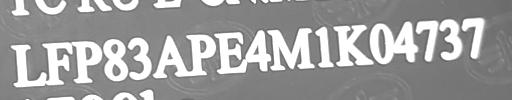letter: (266, 25, 316, 71), (332, 22, 374, 66), (8, 43, 48, 88), (151, 33, 189, 77), (212, 30, 248, 75), (184, 31, 218, 76), (40, 41, 74, 85), (243, 26, 273, 74), (70, 38, 102, 83), (459, 16, 487, 61), (126, 35, 154, 80), (367, 21, 395, 65), (394, 19, 420, 63), (102, 37, 128, 81), (438, 18, 464, 61), (414, 19, 438, 63), (312, 24, 336, 68)
